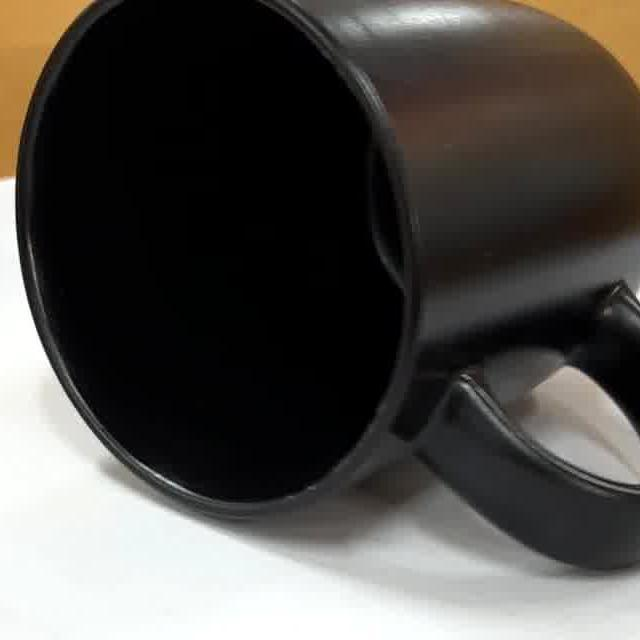cup: (16, 0, 640, 572)
